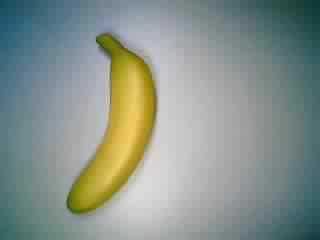banana: (66, 31, 157, 216)
